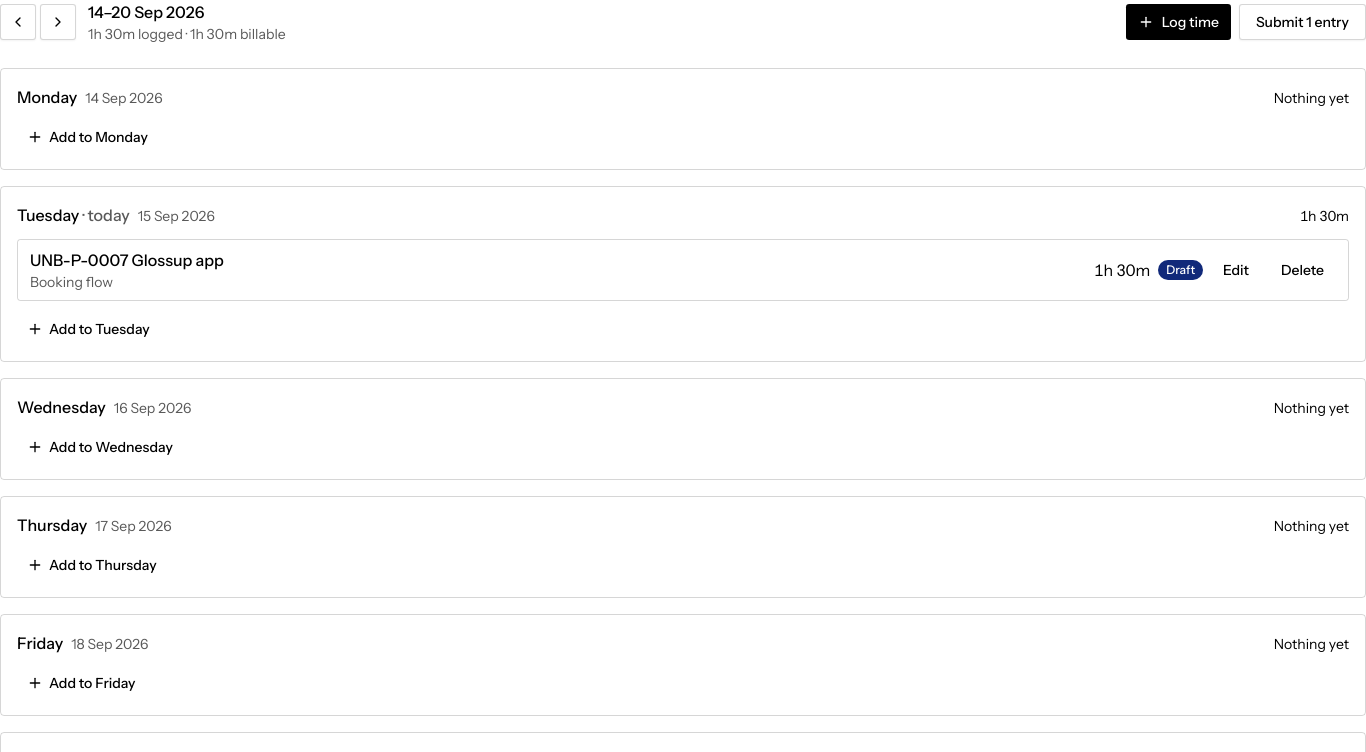
Timesheet › refuses time that is not a number
This screenshot has width=1366, height=752.
Click the button "Log time".
click(1178, 22)  # box [1126,4,1231,40]
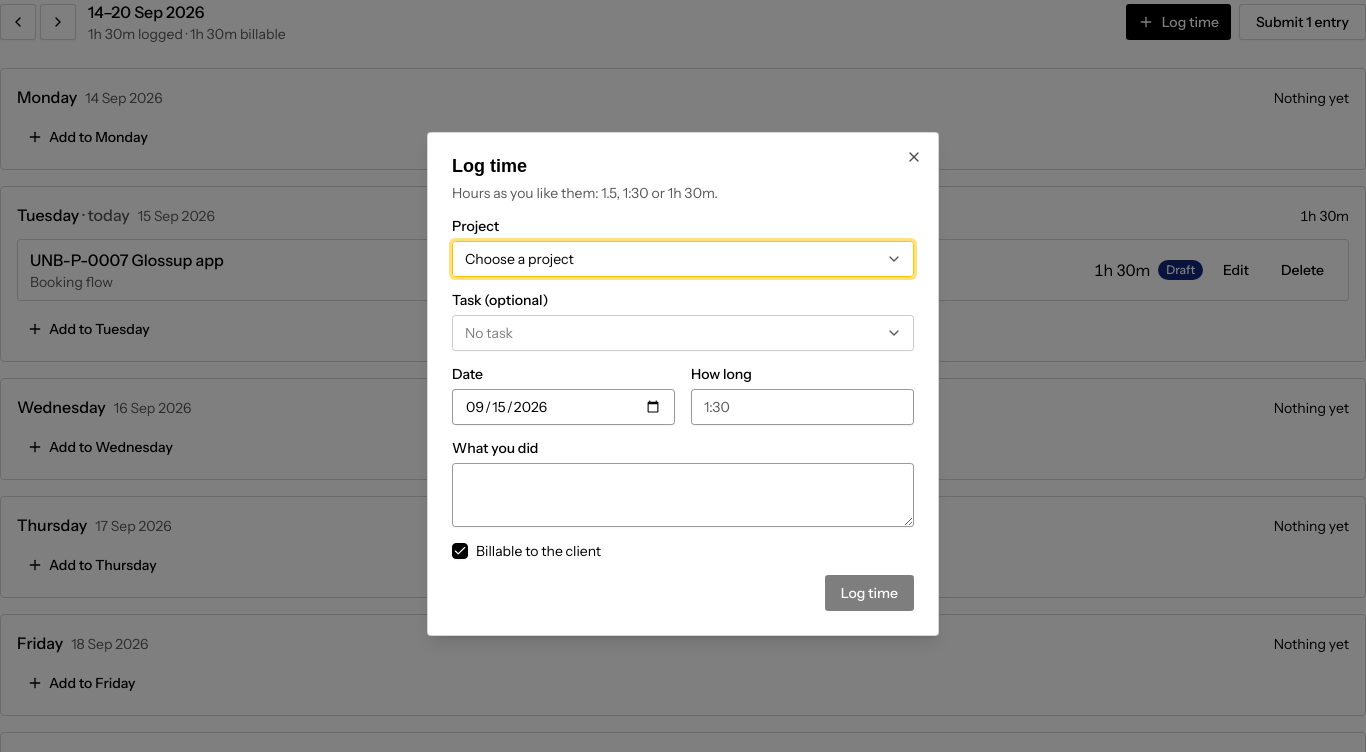
Select "UNB-P-0007 · Glossup app" in the dropdown labelled "Project" at (683, 259), box [452,241,914,277]
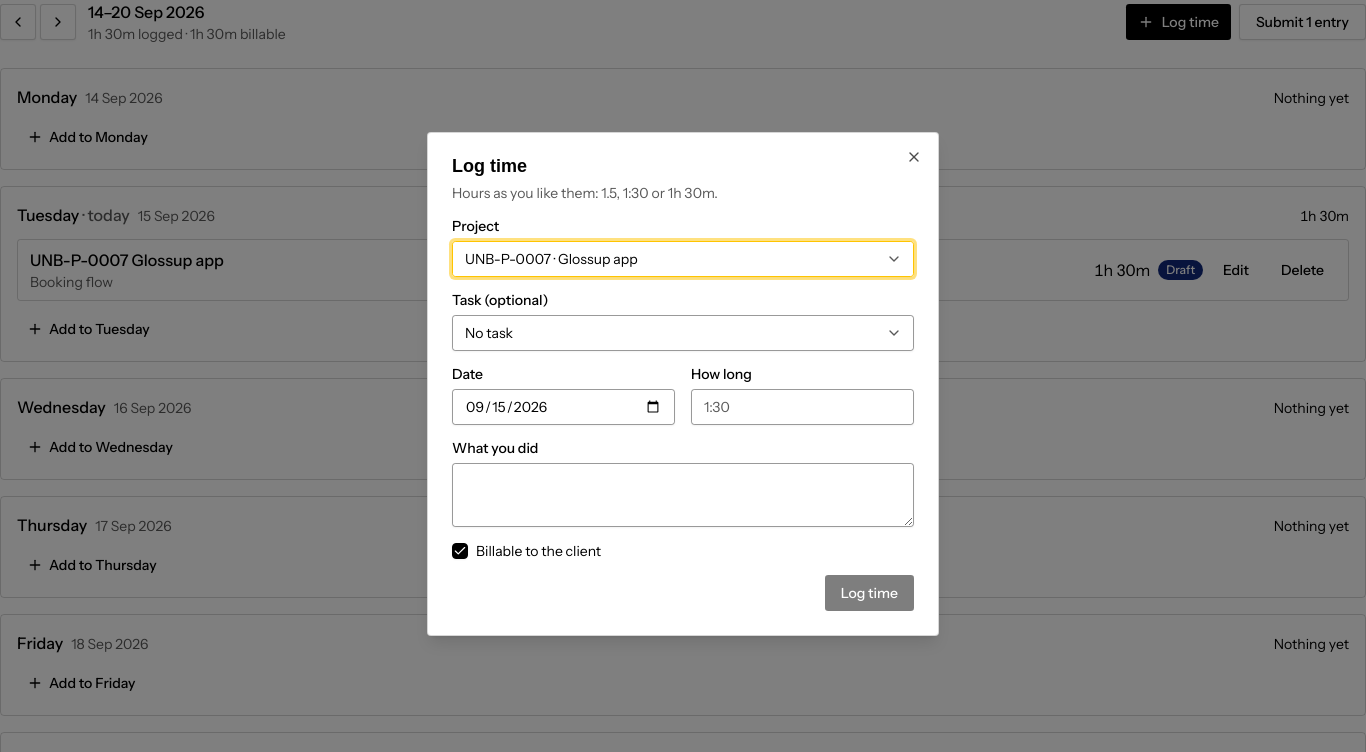
Type "a while" into the field labelled "How long".
click(802, 407); type("a while")  # box [691,389,914,425]
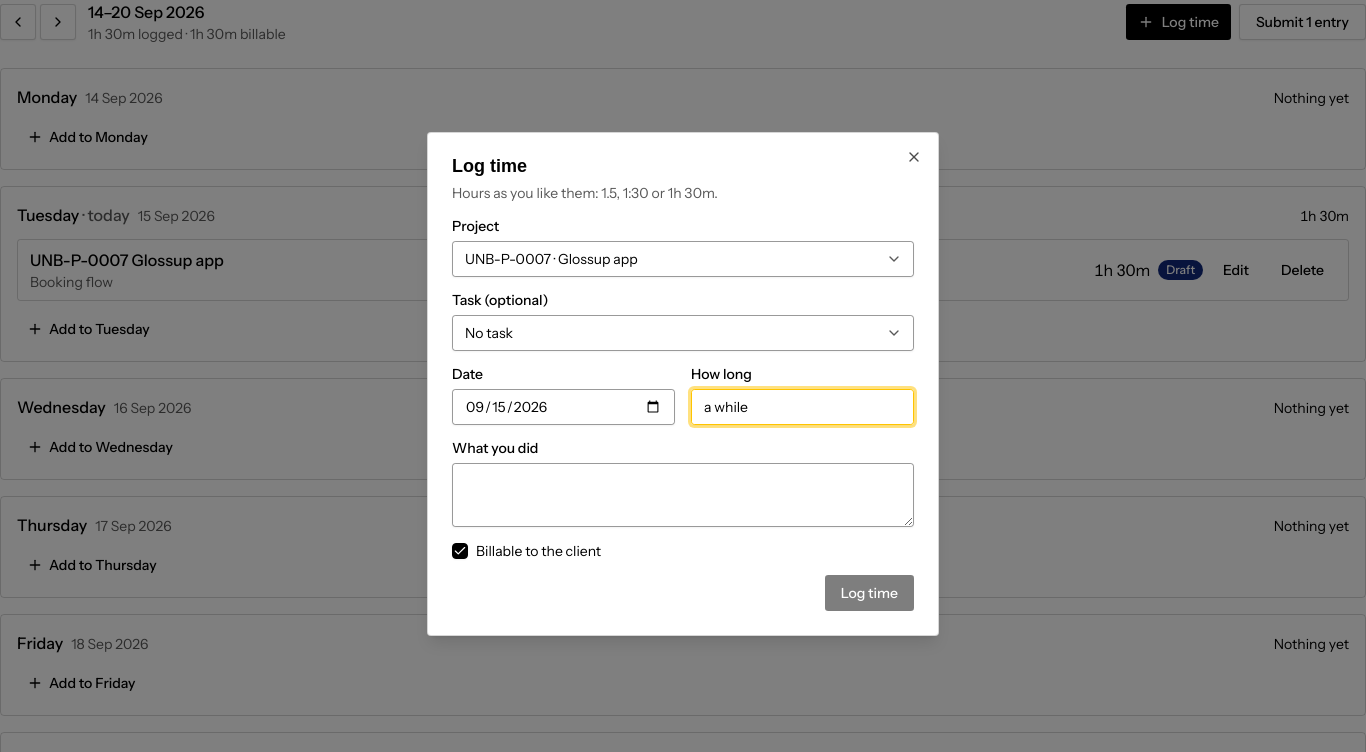
Type "Thinking" into the text box labelled "What you did".
click(683, 495); type("Thinking")  # box [452,463,914,527]
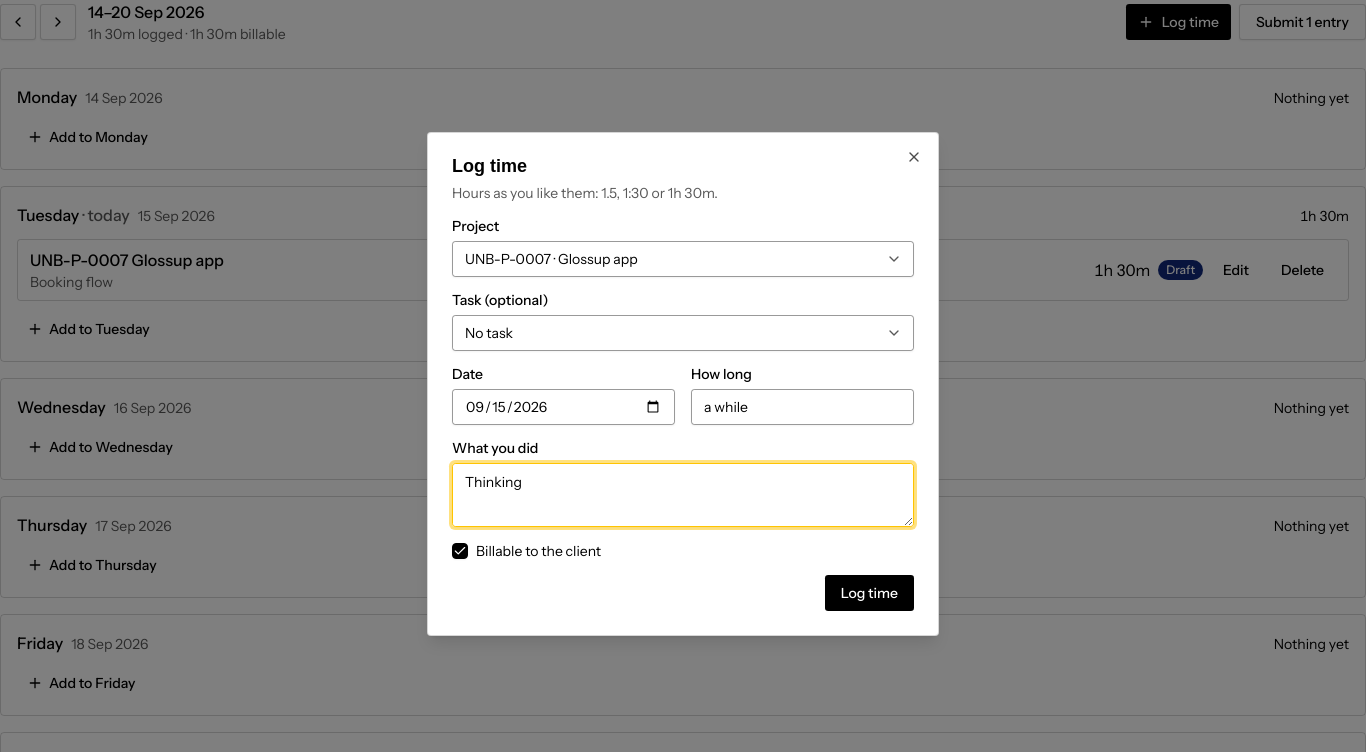
Click the button "Log time".
click(869, 593)  # box [825,575,914,611]
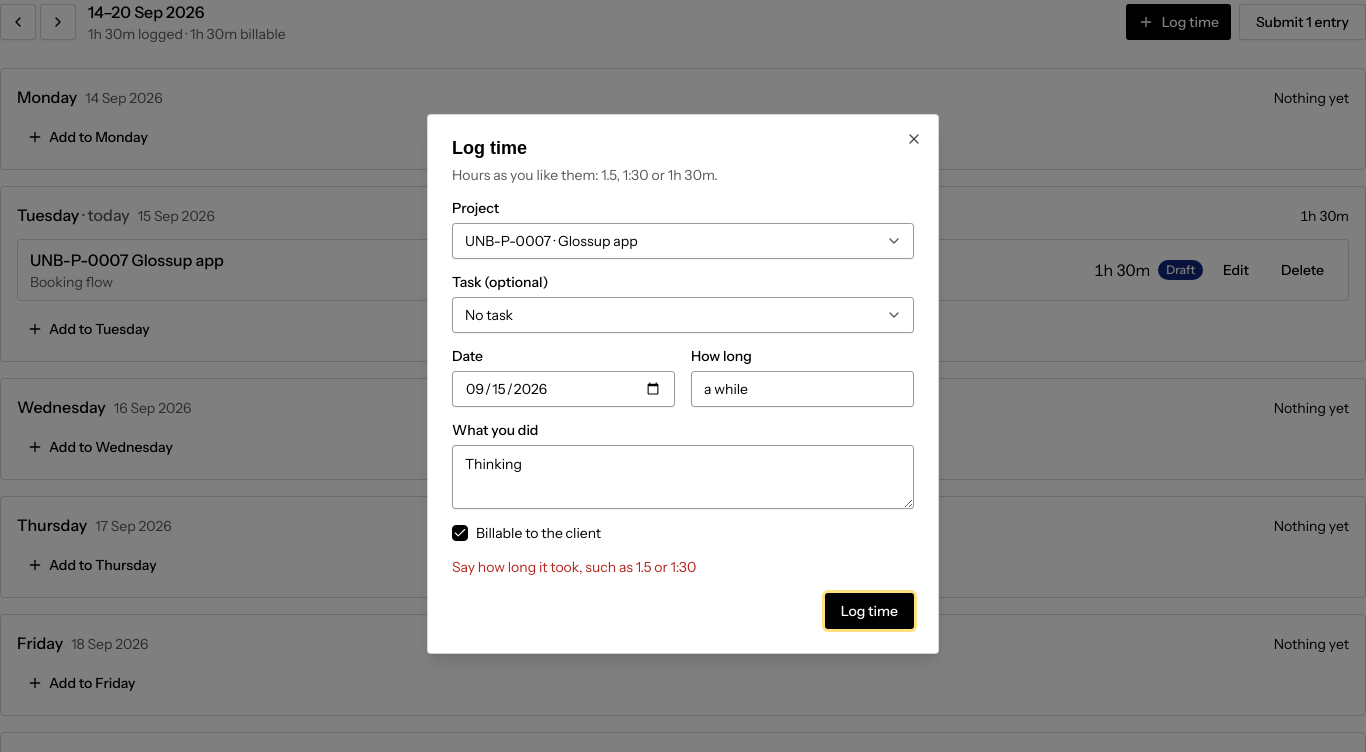
Expected: the message shows "how long", [452,558,696,576]
